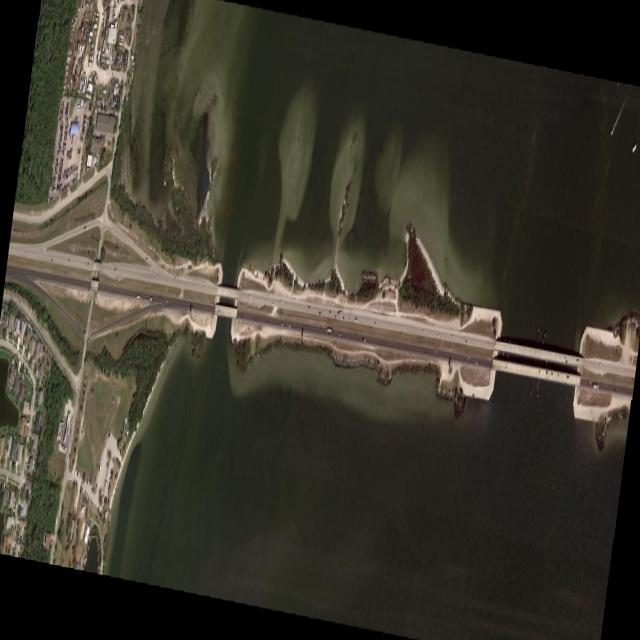large-vehicle: (326, 329, 332, 333), (136, 295, 141, 299), (593, 384, 598, 388)
